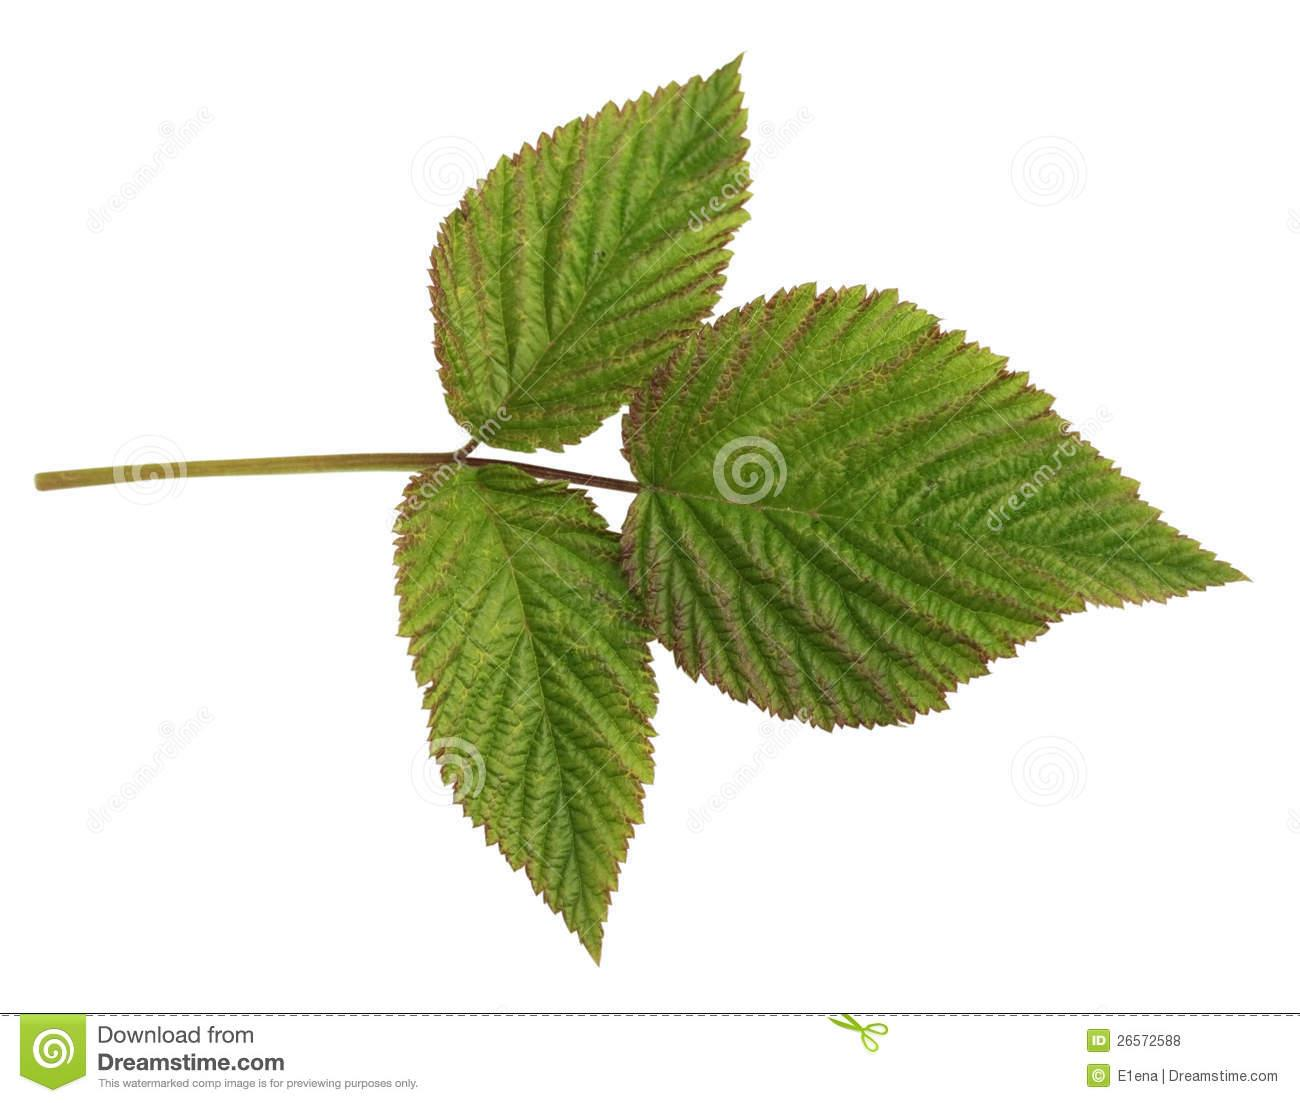Raspberry leaf: (619, 285, 1266, 734), (392, 458, 673, 975), (425, 50, 752, 465)
